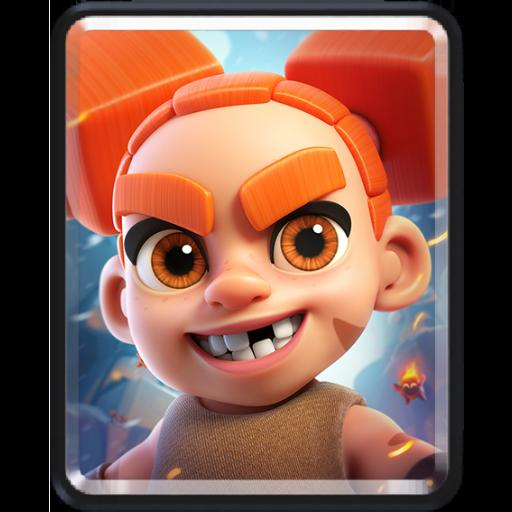beserker: (70, 23, 444, 491)
